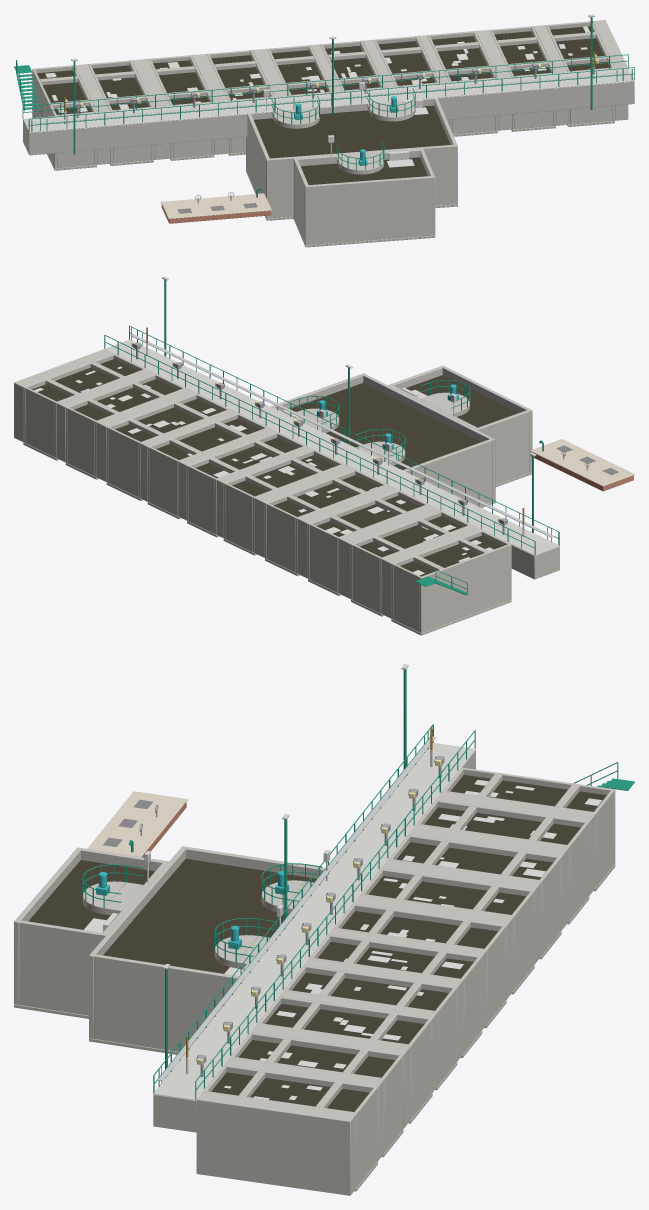
The model's file is Filtration_coagulation.glb.
The picture shows the model from 3 angles, top to bottom: view 1: azimuth 30°, elevation 25°; view 2: azimuth 150°, elevation 25°; view 3: azimuth 270°, elevation 25°; orthographic projection. The views are drawn at different scales.
Visible parts, largest first — view 1: FC_bet, FC_eau, FC_grat, FC_vert, FC_mous, CV_Chambre_vannes_dalle, FC_galva, FC_Escalier_arriere, FC_act, CV_Chambre_vannes_terra, FC_turq; view 2: FC_bet, FC_eau, FC_grat, FC_vert, CV_Chambre_vannes_dalle, FC_mous, FC_galva, FC_act, CV_Chambre_vannes_terra; view 3: FC_bet, FC_eau, FC_grat, FC_vert, FC_mous, CV_Chambre_vannes_dalle, FC_galva, FC_act.
Part boxes in pixels (x1,y1,x2,y2): FC_bet: (23, 20, 634, 247); FC_eau: (37, 26, 608, 184); FC_grat: (23, 67, 634, 132); FC_vert: (22, 17, 634, 169); FC_mous: (45, 26, 596, 167); CV_Chambre_vannes_dalle: (161, 193, 271, 219); FC_galva: (34, 67, 627, 156); FC_Escalier_arriere: (14, 60, 631, 130); FC_act: (75, 58, 596, 117); CV_Chambre_vannes_terra: (161, 204, 271, 223); FC_turq: (294, 96, 398, 165); FC_bet: (14, 349, 559, 635); FC_eau: (32, 359, 518, 576); FC_grat: (105, 339, 559, 555); FC_vert: (104, 280, 559, 554); CV_Chambre_vannes_dalle: (530, 439, 634, 486); FC_mous: (34, 366, 493, 575); FC_galva: (130, 334, 554, 537); FC_act: (133, 342, 507, 534); CV_Chambre_vannes_terra: (531, 452, 633, 491); FC_bet: (14, 750, 615, 1195); FC_eau: (28, 775, 606, 1111); FC_grat: (153, 743, 475, 1100); FC_vert: (82, 669, 475, 1099); FC_mous: (84, 779, 601, 1100); CV_Chambre_vannes_dalle: (87, 791, 187, 856); FC_galva: (147, 736, 436, 1080); FC_act: (198, 756, 444, 1077).
Bounding box in the file's own units: 49.09 × 11.31 × 33.99.
Materials: 15 (15 with a texture image).
